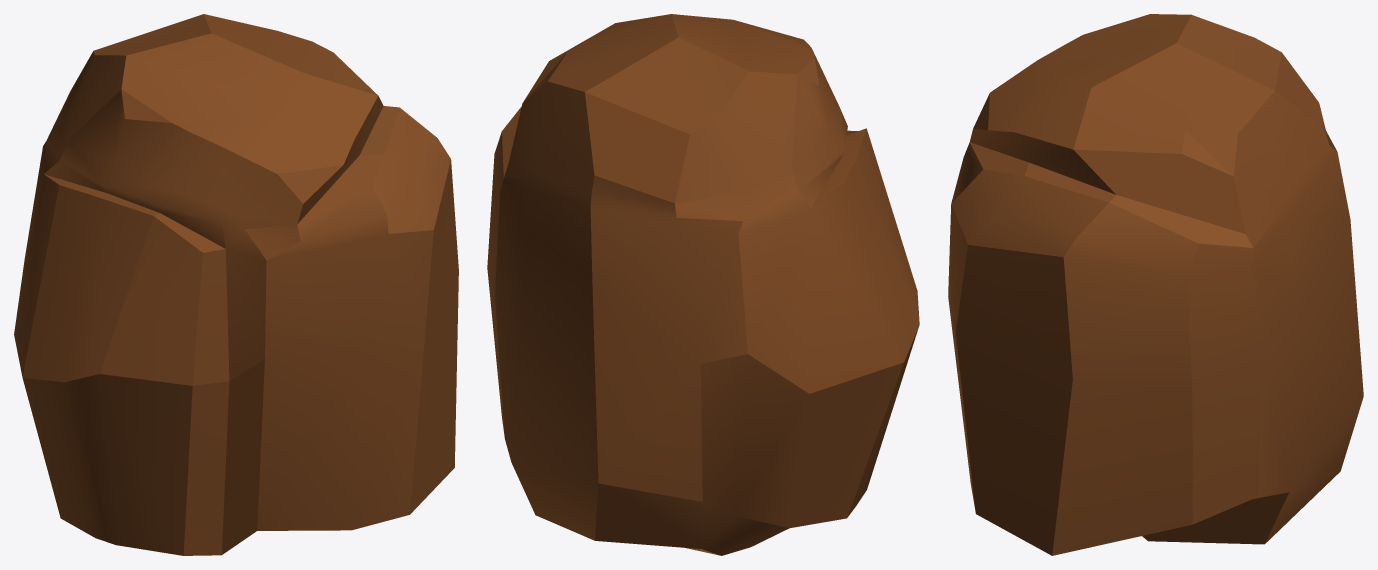
The model's file is rock_b3.glb.
3 renders of one model, left to right at view 1: azimuth 30°, elevation 25°; view 2: azimuth 150°, elevation 25°; view 3: azimuth 270°, elevation 25°, orthographic. The views are drawn at different scales.
Visible parts, largest first — view 1: Rock_3; view 2: Rock_3; view 3: Rock_3.
Part boxes in pixels (x1=…): Rock_3: x1=14, y1=14, x2=458, y2=555; Rock_3: x1=487, y1=14, x2=919, y2=555; Rock_3: x1=948, y1=14, x2=1363, y2=555.
Bounding box in the file's own units: 3.3 × 3.83 × 3.01.
1 material, 1 textured.
